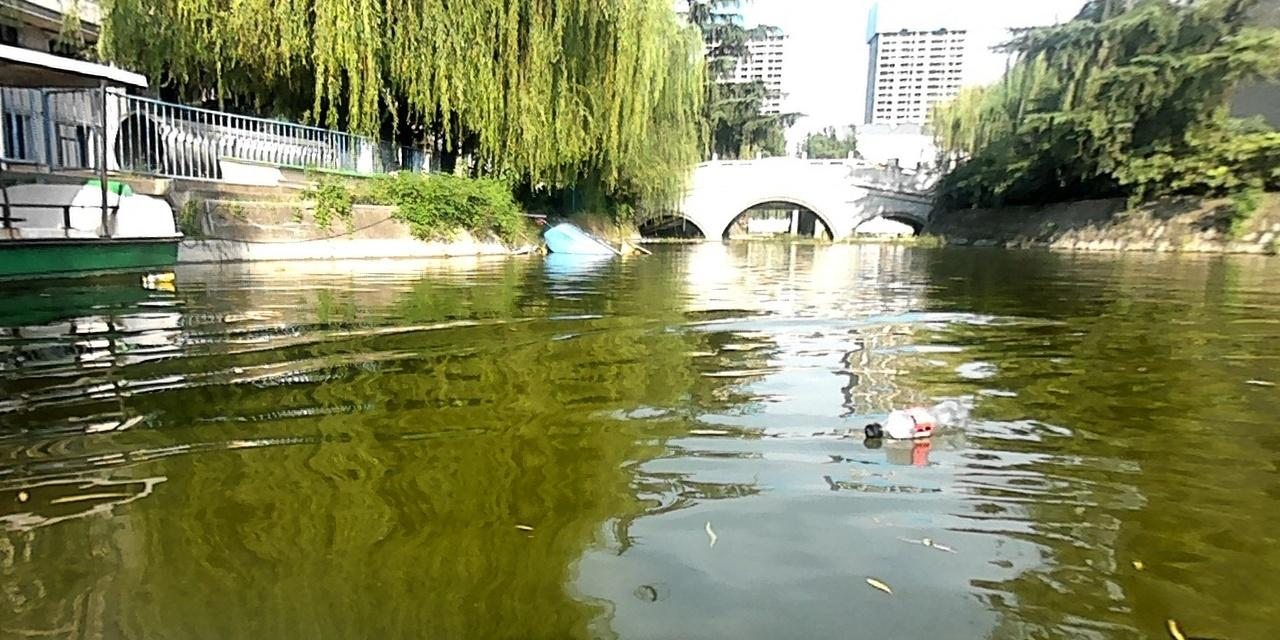bottle: (862, 399, 962, 440), (141, 269, 175, 285)
